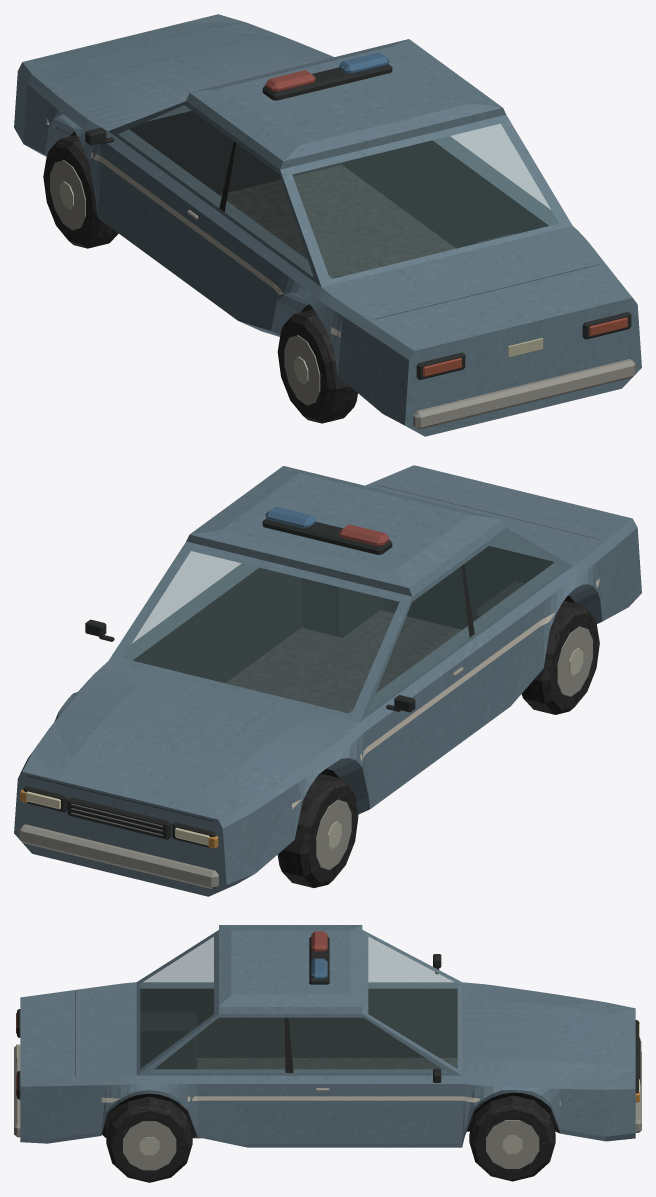
The model's file is vehicle_police.glb.
The picture shows the model from 3 angles, top to bottom: view 1: azimuth 30°, elevation 25°; view 2: azimuth 150°, elevation 25°; view 3: azimuth 270°, elevation 25°; orthographic projection. The views are drawn at different scales.
Parts seen in each view (by area): view 1: closed_body, glazing, roof_body; view 2: closed_body, glazing, roof_body; view 3: closed_body, glazing, roof_body.
Part boxes in pixels (x1,y1,x2,y2): closed_body: (14, 14, 641, 436); glazing: (118, 105, 558, 279); roof_body: (186, 39, 505, 169); closed_body: (14, 465, 641, 896); glazing: (123, 532, 563, 713); roof_body: (186, 466, 506, 596); closed_body: (14, 930, 641, 1182); glazing: (140, 937, 457, 1072); roof_body: (219, 925, 362, 1013).
Bounding box in the file's own units: 2.13 × 1.49 × 4.65.
2 materials, 2 textured.
